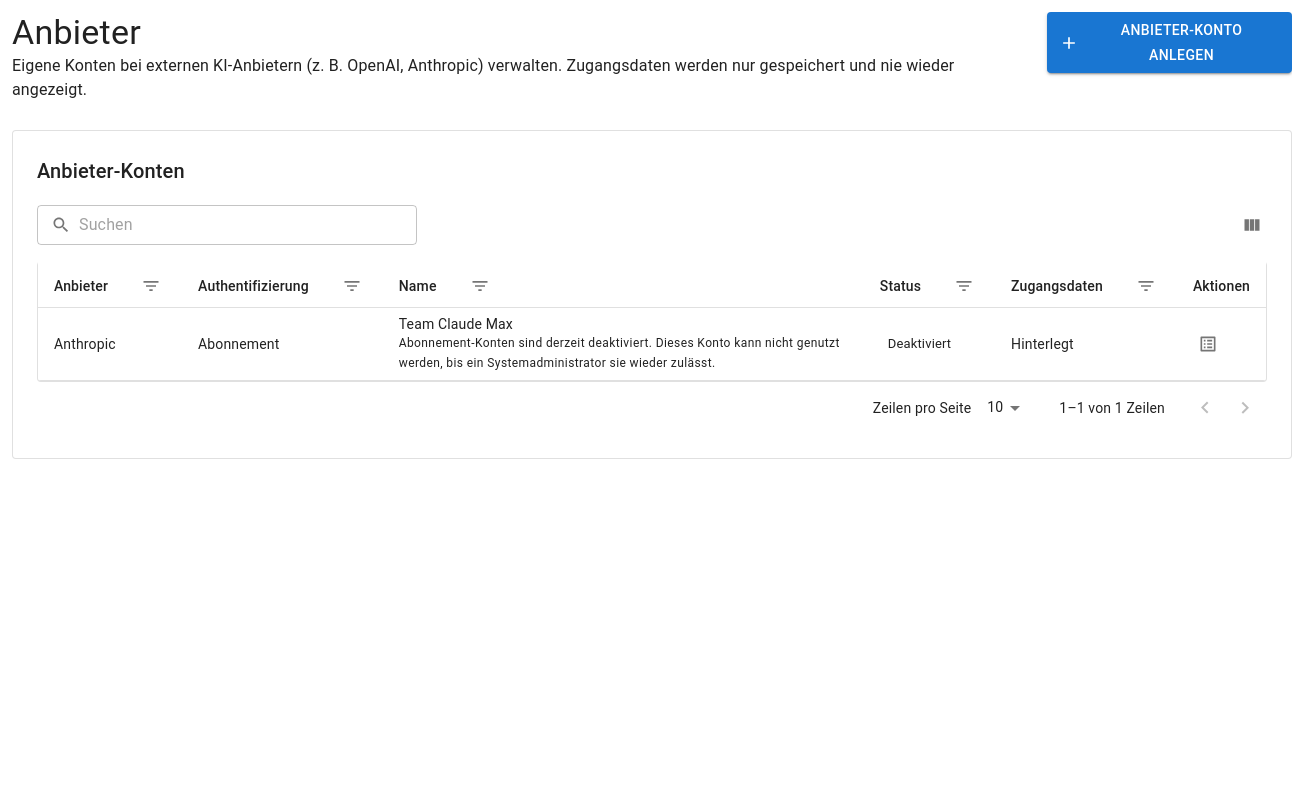
with vendor_subscriptions_enabled off › repeats the notice on the subscription account detail view
The image size is (1304, 812).
Click the button named "Details".
click(1208, 344)  # box 1193,329 -> 1223,359
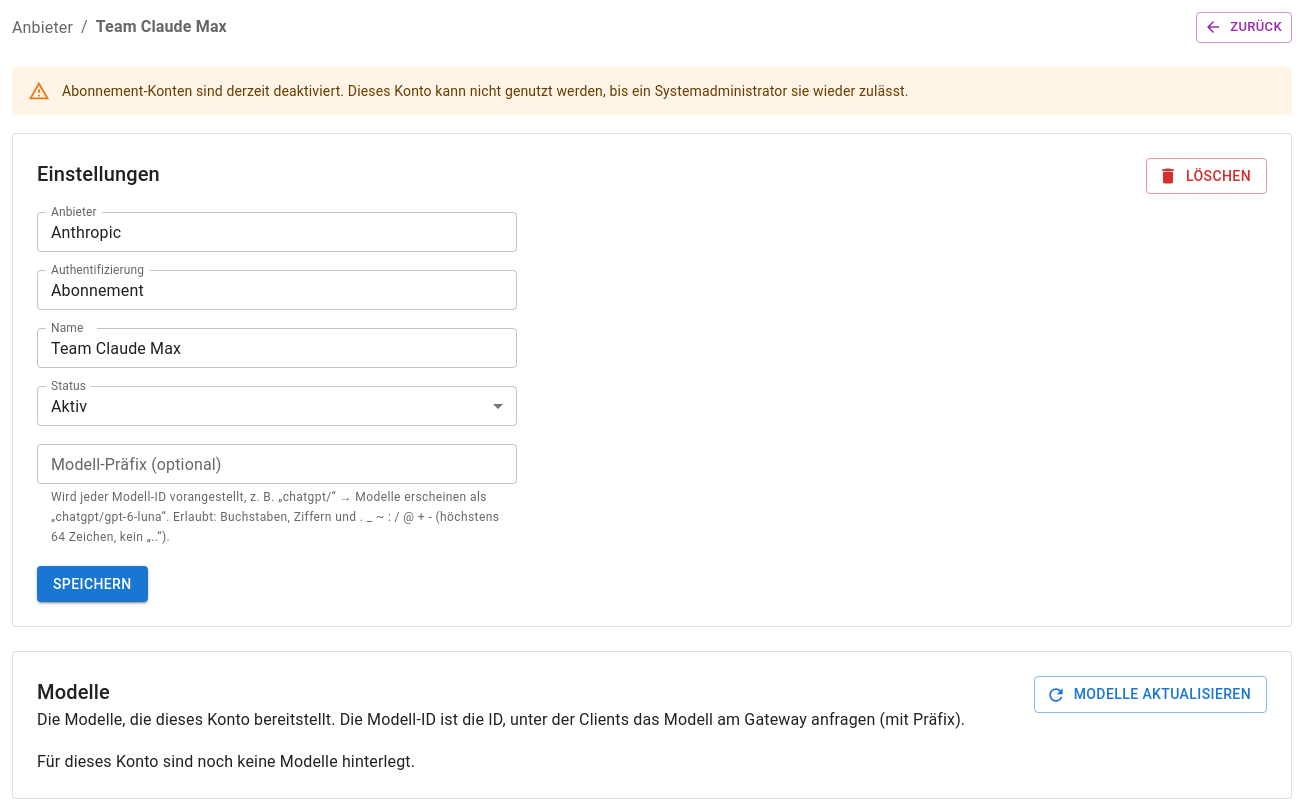
Check: the text "Abonnement-Konten sind derzeit deaktiviert. Dieses Konto kann nicht genutzt werden, bis ein Systemadministrator sie wied" is shown, box 62,83 -> 909,99
Check: the heading "Einstellungen" is shown, box 37,158 -> 160,190
